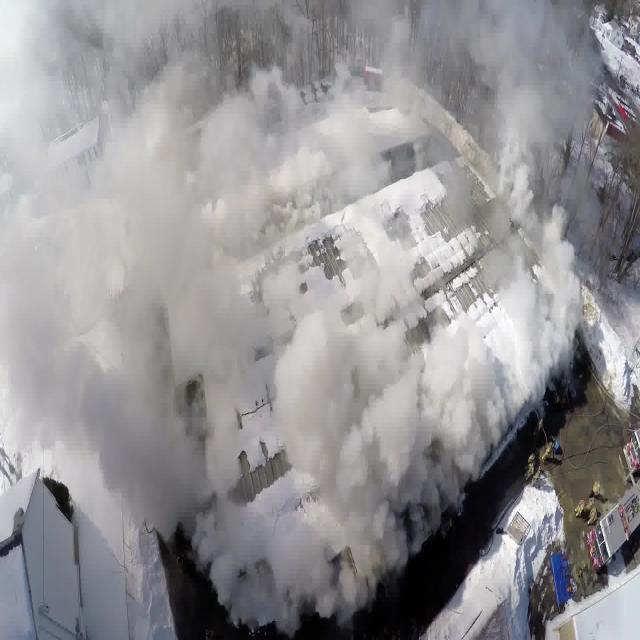Smoke: (33, 0, 586, 624)
